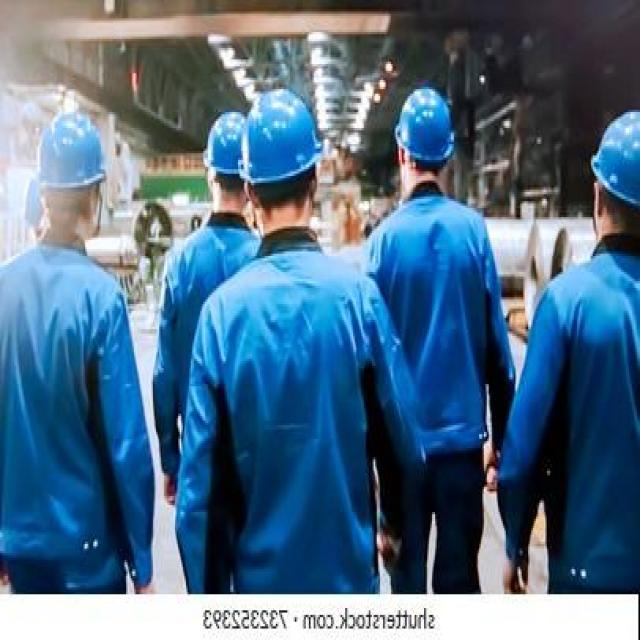Safety-Helmet: (233, 82, 336, 194), (28, 101, 112, 201), (388, 75, 463, 174), (586, 100, 640, 215), (196, 103, 249, 183)
